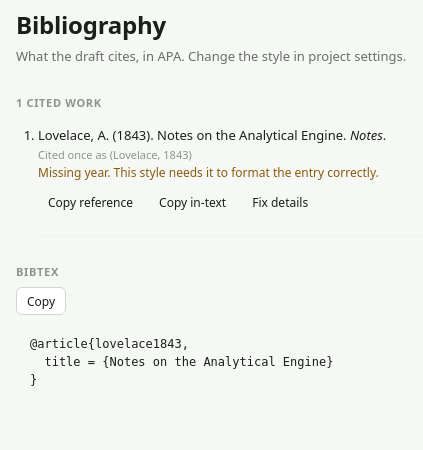
fixing an entry here › does not open a form it could not read a Paper for
The image size is (423, 450).
Click the button with aria-label "Fix the details for Notes on the Analytical Engine" at (280, 203), box [242,189,318,217]
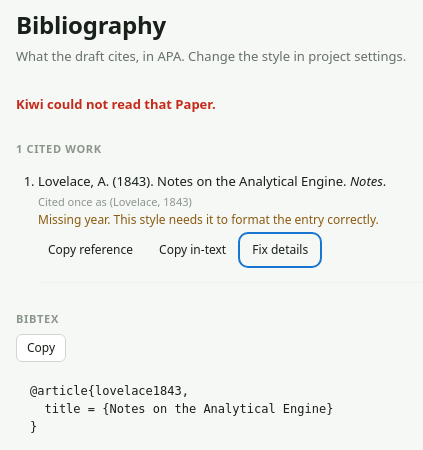
Check: the message shows "could not read that Paper", box [16,94,216,112]
